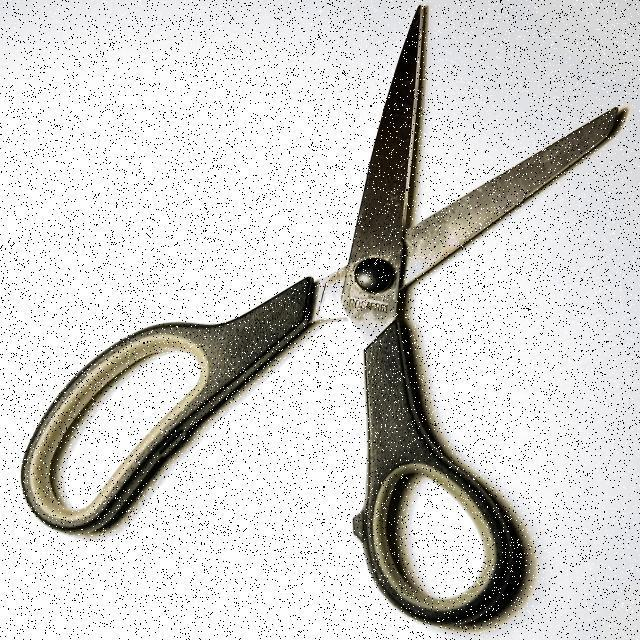scissors: (15, 8, 628, 630)
